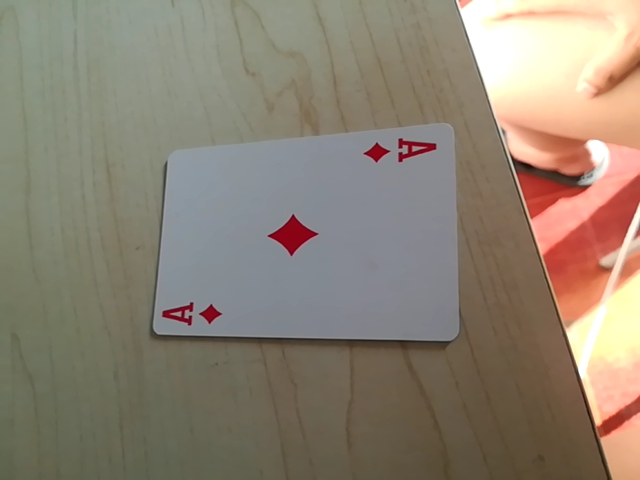fk a: (361, 135, 439, 168), (157, 297, 225, 332)
